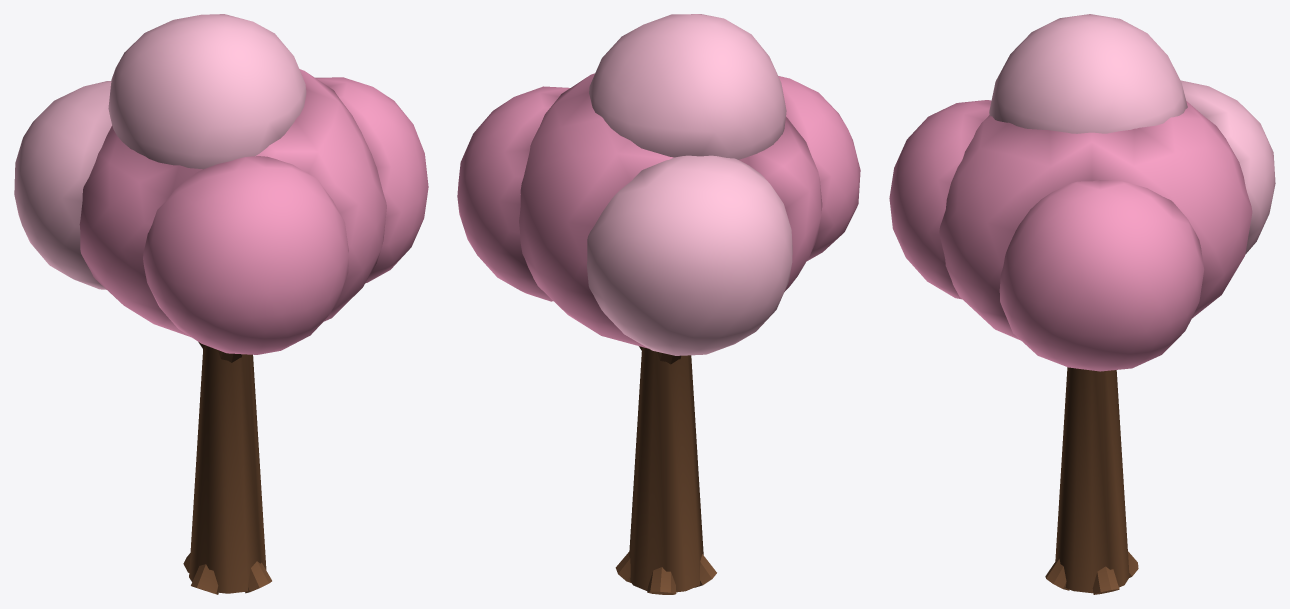
The model's file is md_blossom.glb.
The picture shows the model from 3 angles, left to right: view 1: azimuth 30°, elevation 25°; view 2: azimuth 150°, elevation 25°; view 3: azimuth 270°, elevation 25°; orthographic projection. The views are drawn at different scales.
Visible parts, largest first — view 1: blossom; view 2: blossom; view 3: blossom.
Boxes of the visible parts, x1,y1,x2,y2 form: blossom: (14,14,428,594); blossom: (457,14,860,594); blossom: (889,14,1275,594).
Size of the model in its own units: 4.37 by 6.79 by 4.31.
